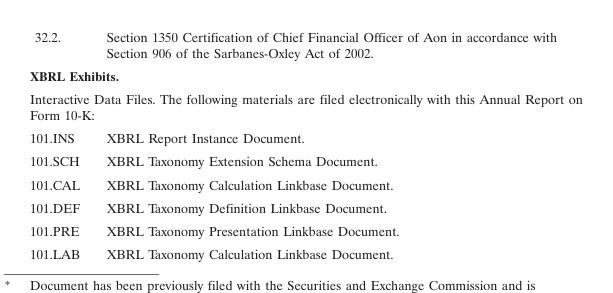table: (28, 28, 581, 261)
table column: (92, 28, 581, 261), (28, 28, 92, 261)
table projected row header: (28, 87, 581, 125), (28, 64, 581, 87)
table row: (28, 87, 581, 125), (28, 28, 581, 64), (28, 125, 581, 149), (28, 218, 581, 242), (28, 64, 581, 87), (28, 149, 581, 172), (28, 172, 581, 195), (28, 195, 581, 218), (28, 242, 581, 261)
